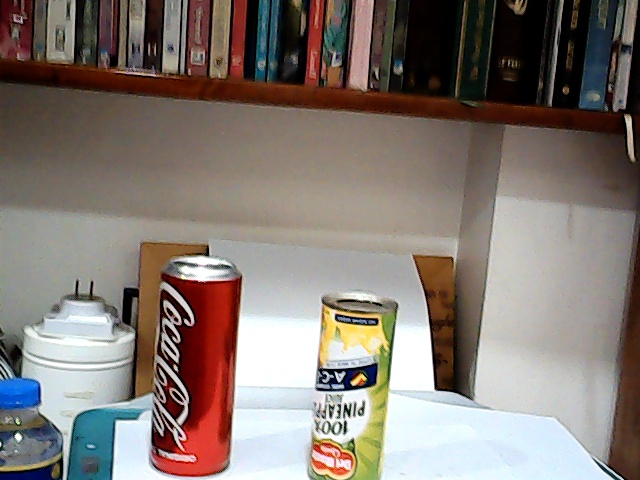Cola: (144, 250, 248, 478)
Pine Juice: (293, 287, 408, 480)
